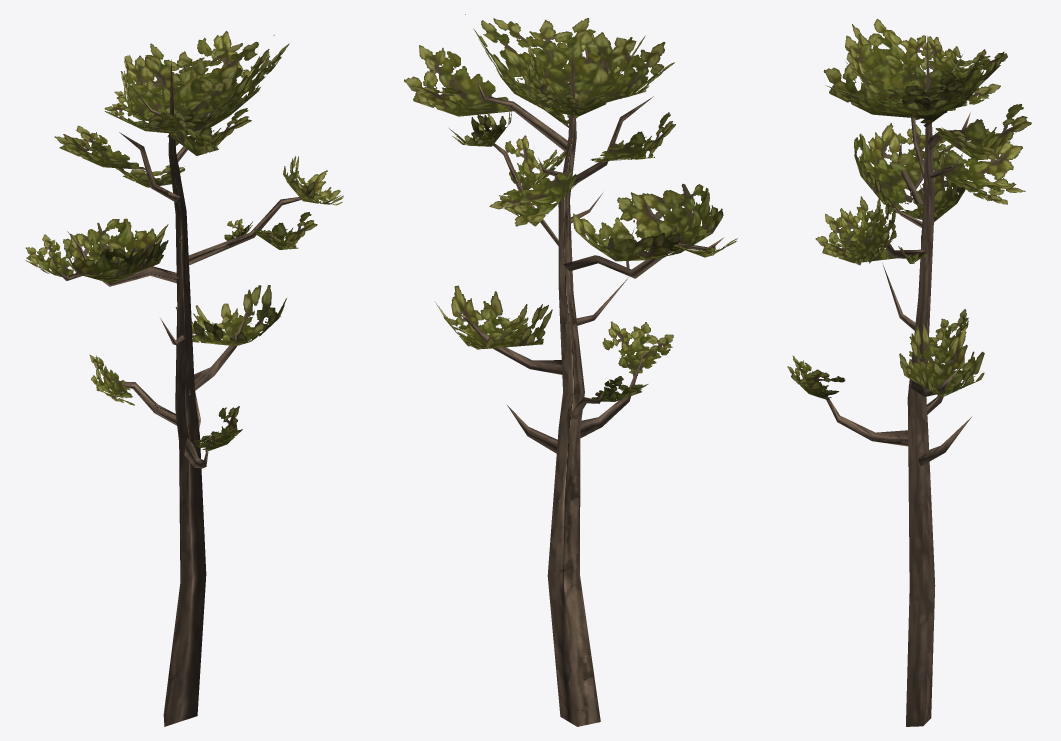
The model's file is town_scrubpine01.fbx.
3 renders of one model, left to right at view 1: azimuth 30°, elevation 25°; view 2: azimuth 150°, elevation 25°; view 3: azimuth 270°, elevation 25°, orthographic. The views are drawn at different scales.
Visible parts, largest first — view 1: scrub_pine01; view 2: scrub_pine01; view 3: scrub_pine01.
Boxes of the visible parts, left/top/right/bottom form: scrub_pine01: left=25, top=31, right=343, bottom=726; scrub_pine01: left=404, top=14, right=737, bottom=726; scrub_pine01: left=787, top=19, right=1031, bottom=726.
Bounding box in the file's own units: 6.62 × 13.33 × 4.62.
